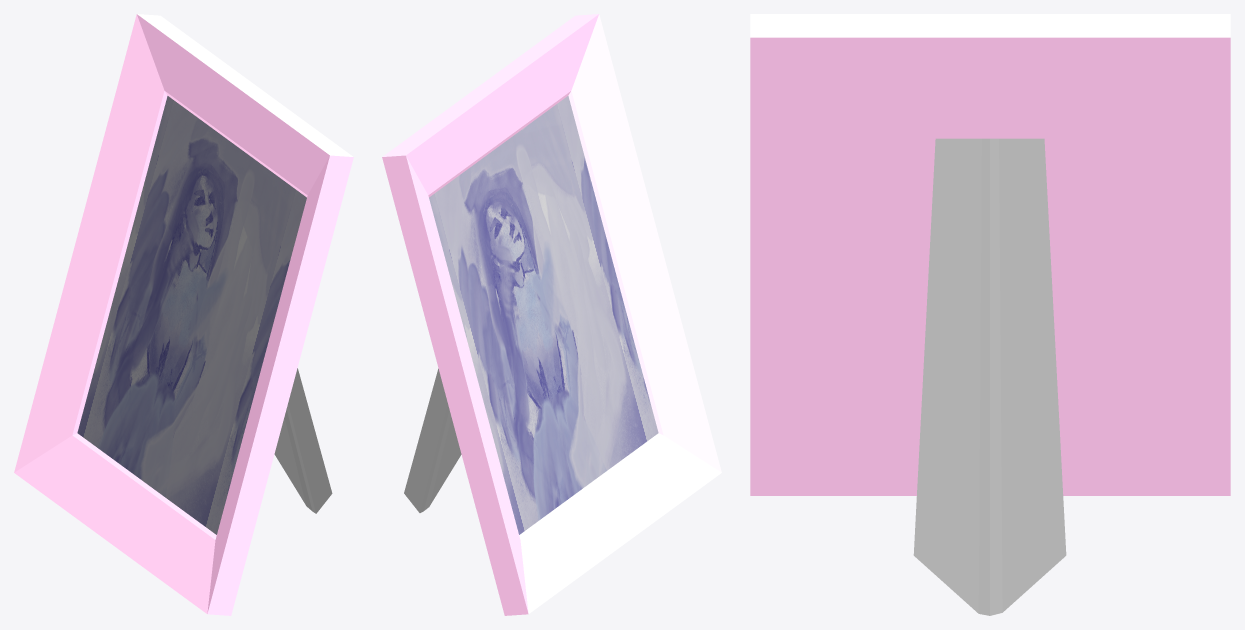
The model's file is cadre_t_.fbx.
3 views of the same model, side by side, from view 1: azimuth 30°, elevation 25°; view 2: azimuth 150°, elevation 25°; view 3: azimuth 270°, elevation 25° (orthographic). The views are drawn at different scales.
Visible parts, largest first — view 1: cadre; view 2: cadre; view 3: cadre.
Part boxes in pixels (x1=…): cadre: x1=14, y1=14, x2=353, y2=615; cadre: x1=382, y1=14, x2=721, y2=615; cadre: x1=750, y1=14, x2=1230, y2=615.
Size of the model in its own units: 15.97 by 33.75 by 26.51.
